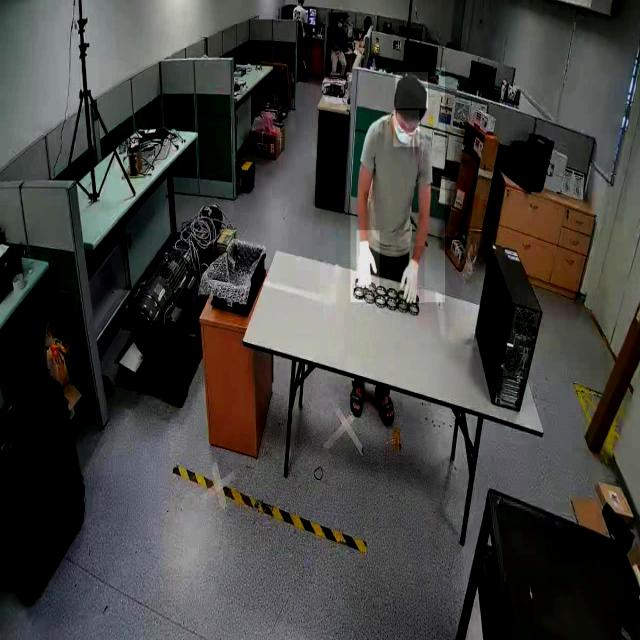face_mask: (394, 110, 419, 147), (337, 17, 347, 35)
hand_glove: (396, 246, 424, 306), (356, 230, 380, 294)
head_nohelmet: (395, 72, 428, 109)
person: (350, 68, 445, 303), (328, 12, 348, 82)
